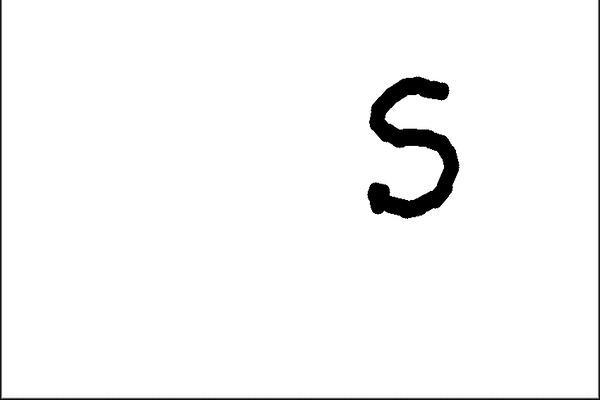S: (354, 70, 469, 224)
